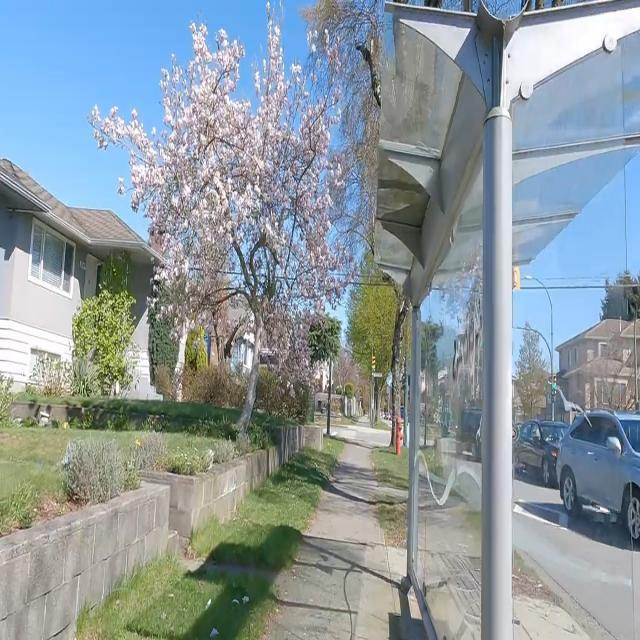Automobile: (513, 409, 639, 543)
Obstacle: (374, 0, 639, 639), (392, 415, 403, 454)
Road: (513, 479, 639, 639)
Sidewalk: (264, 431, 405, 639), (515, 596, 589, 639)
